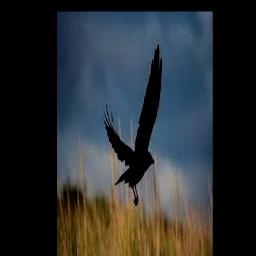Crow: (103, 44, 163, 208)
